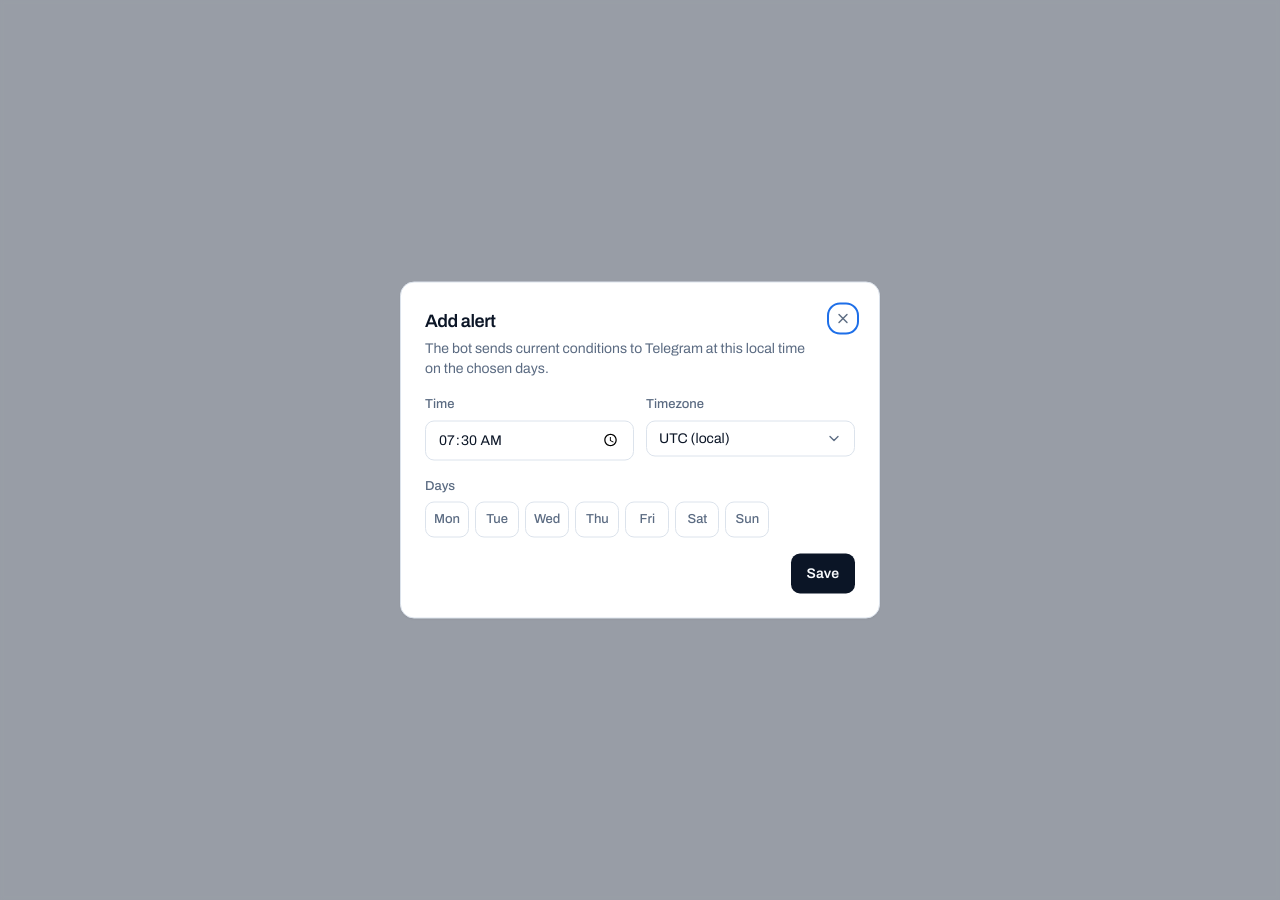
alerts › ScheduleDialog requires at least one day
Click the button with test id "sd-save" at coordinates (823, 574), box [791, 554, 855, 594]
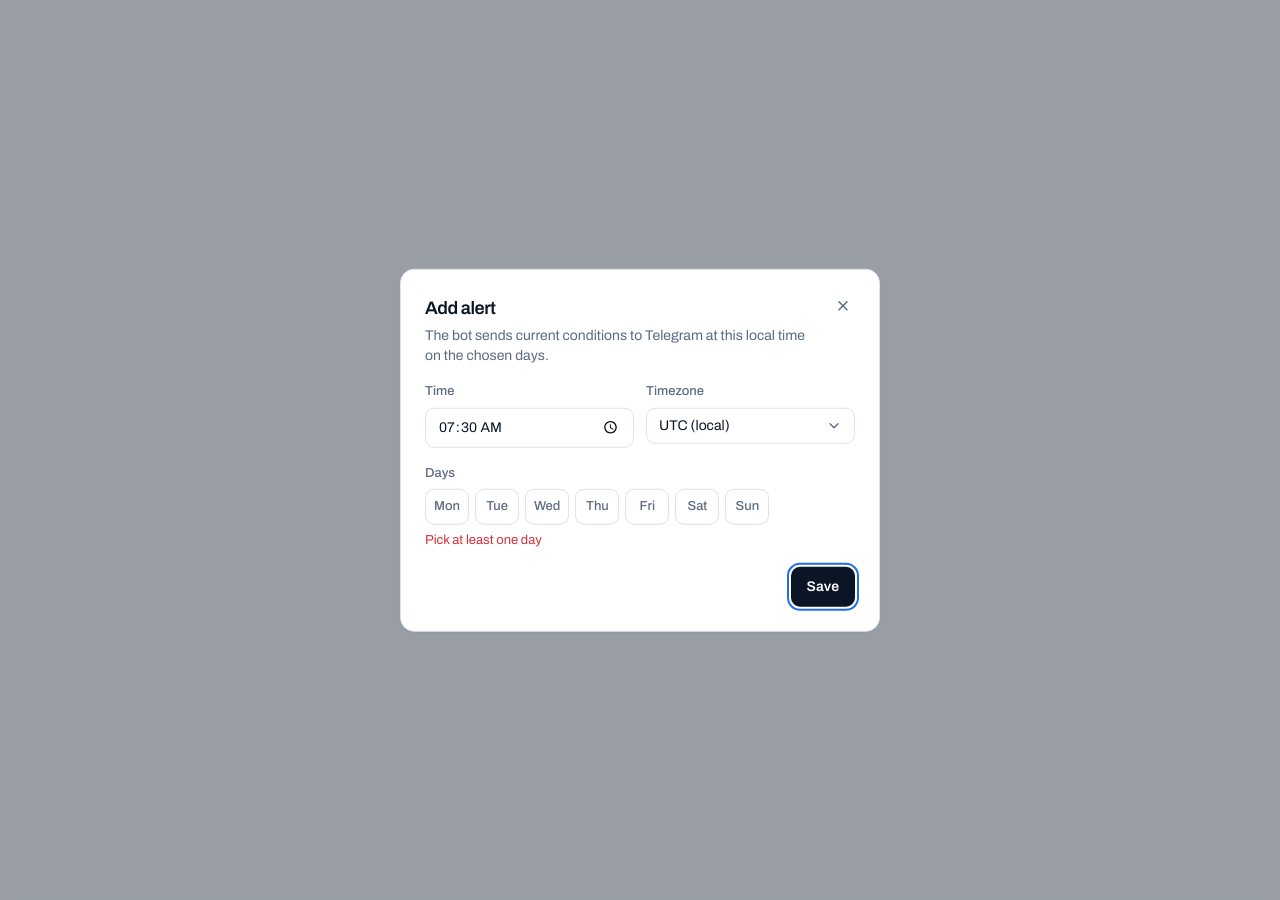
Expected: the message with test id "sd-days-error" reads "Pick at least one day", [425, 533, 542, 547]
